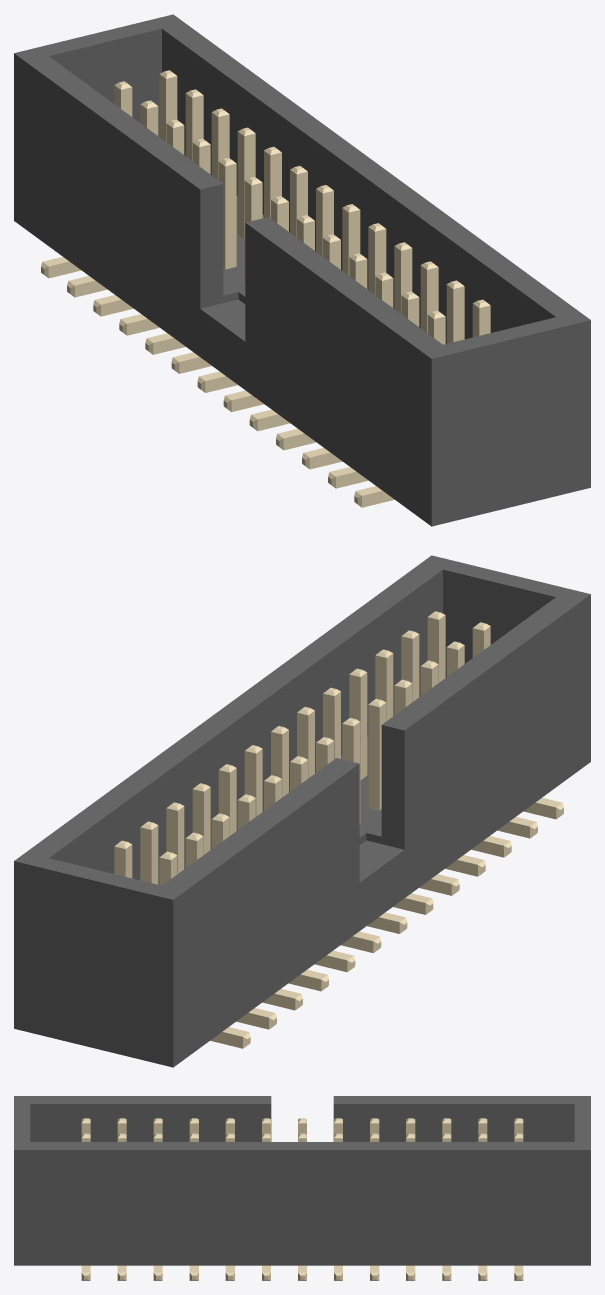
File: kc-idc-header_2x13_p2.54mm_vertical_smd.glb
3 renders of one model, top to bottom at view 1: azimuth 30°, elevation 25°; view 2: azimuth 150°, elevation 25°; view 3: azimuth 270°, elevation 25°, orthographic. The views are drawn at different scales.
Visible parts, largest first — view 1: 0.16666666666666666_0.16666666666666666_0.16666666666666666_, 0.8333333333333334_0.75_0.5_0.9; view 2: 0.16666666666666666_0.16666666666666666_0.16666666666666666_, 0.8333333333333334_0.75_0.5_0.9; view 3: 0.16666666666666666_0.16666666666666666_0.16666666666666666_, 0.8333333333333334_0.75_0.5_0.9.
Part boxes in pixels (left/top/right/bottom): 0.16666666666666666_0.16666666666666666_0.16666666666666666_: left=14, top=14, right=590, bottom=526; 0.8333333333333334_0.75_0.5_0.9: left=41, top=70, right=490, bottom=507; 0.16666666666666666_0.16666666666666666_0.16666666666666666_: left=14, top=555, right=590, bottom=1067; 0.8333333333333334_0.75_0.5_0.9: left=114, top=611, right=563, bottom=1048; 0.16666666666666666_0.16666666666666666_0.16666666666666666_: left=14, top=1096, right=590, bottom=1265; 0.8333333333333334_0.75_0.5_0.9: left=81, top=1118, right=523, bottom=1280.
Bounding box in the file's own units: 1.16 × 0.9639 × 4.06.
